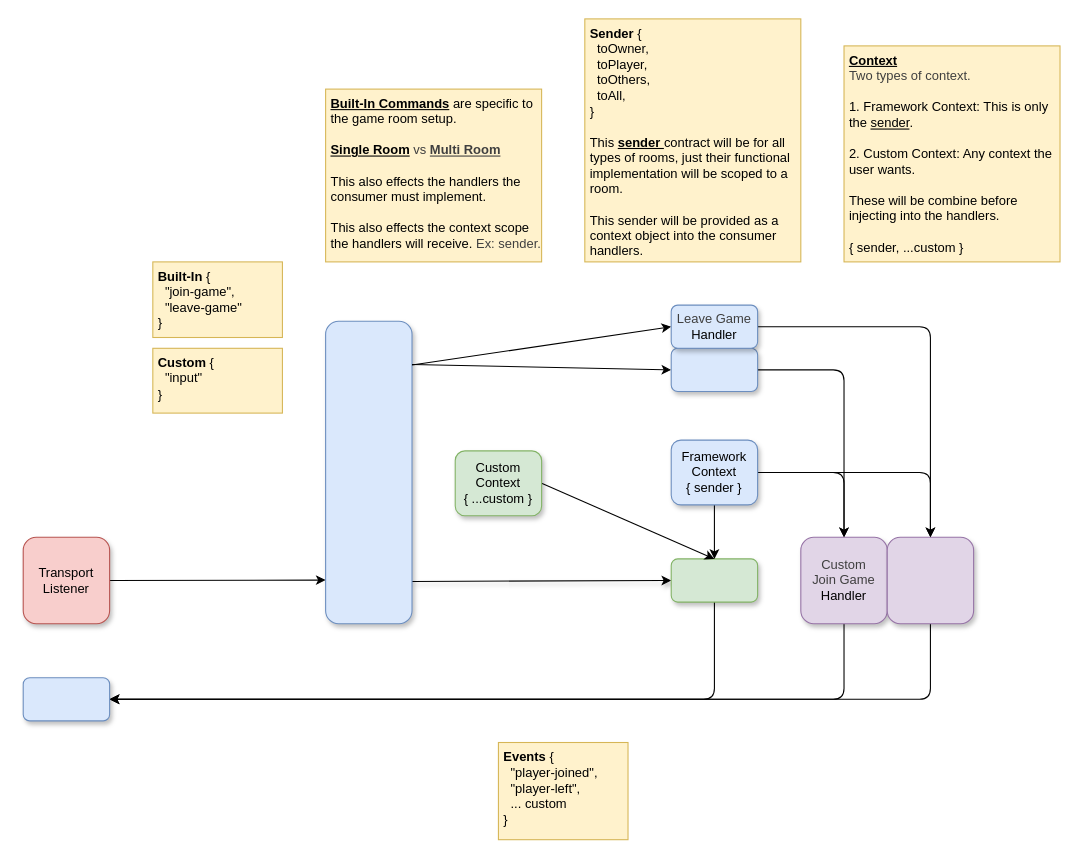
The diagram is 1079 pixels wide and 862 high, and some of its shapes have lost their labels. The shapes that lost their labels are listed below. From the top down, each one's centre as x and y in pixels, then its label:
At (715,371): "Join Game Handler".
At (369,473): "Command Dispatcher".
At (715,582): "Custom Handler".
At (931,581): "Custom Leave Game Handler".
At (67,700): "Transport Sender".
